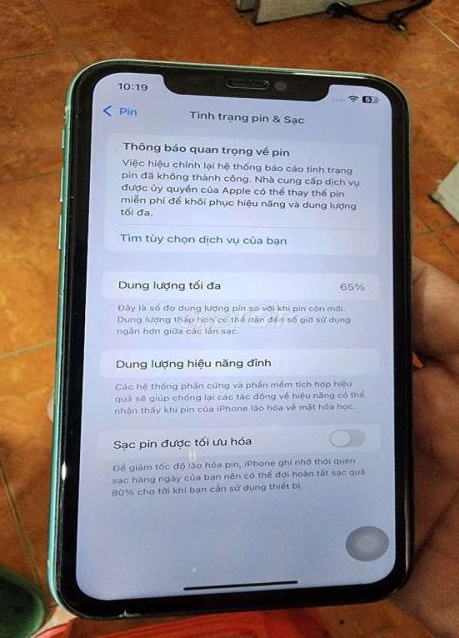scratch: (88, 599, 144, 624)
